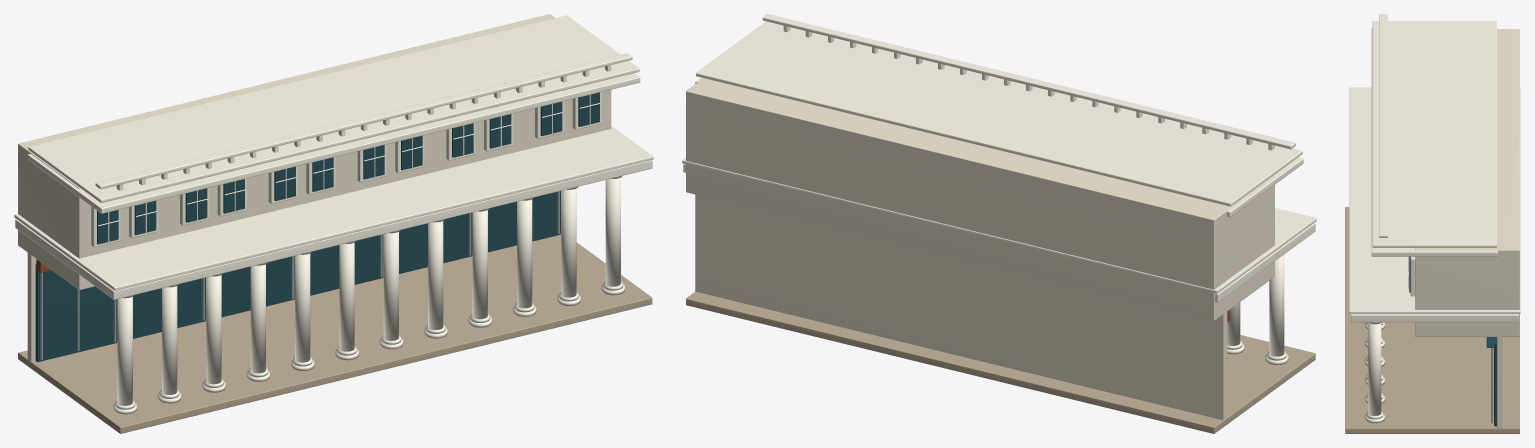
The model's file is cp-colonnade.glb.
3 renders of one model, left to right at view 1: azimuth 30°, elevation 25°; view 2: azimuth 150°, elevation 25°; view 3: azimuth 270°, elevation 25°, orthographic. The views are drawn at different scales.
Parts seen in each view (by area): view 1: cp-colonnade / Chalk edges, cp-colonnade / Sandstone, cp-colonnade / Deep indigo glass, cp-colonnade / Warm lime plaster, cp-colonnade / Brushed metal; view 2: cp-colonnade / Warm lime plaster, cp-colonnade / Chalk edges, cp-colonnade / Sandstone; view 3: cp-colonnade / Chalk edges, cp-colonnade / Sandstone, cp-colonnade / Warm lime plaster, cp-colonnade / Deep indigo glass, cp-colonnade / Brushed metal.
Part boxes in pixels (left/top/right/bottom): cp-colonnade / Chalk edges: left=14, top=15, right=653, bottom=414; cp-colonnade / Sandstone: left=18, top=233, right=652, bottom=433; cp-colonnade / Deep indigo glass: left=35, top=92, right=599, bottom=361; cp-colonnade / Warm lime plaster: left=18, top=14, right=611, bottom=363; cp-colonnade / Brushed metal: left=40, top=191, right=559, bottom=360; cp-colonnade / Warm lime plaster: left=686, top=78, right=1274, bottom=420; cp-colonnade / Chalk edges: left=682, top=14, right=1316, bottom=364; cp-colonnade / Sandstone: left=686, top=291, right=1315, bottom=433; cp-colonnade / Chalk edges: left=1349, top=14, right=1520, bottom=423; cp-colonnade / Sandstone: left=1345, top=207, right=1519, bottom=433; cp-colonnade / Warm lime plaster: left=1415, top=29, right=1519, bottom=429; cp-colonnade / Deep indigo glass: left=1409, top=256, right=1496, bottom=426; cp-colonnade / Brushed metal: left=1491, top=348, right=1493, bottom=423.
Bounding box in the file's own units: 24.3 × 10.05 × 8.03.
